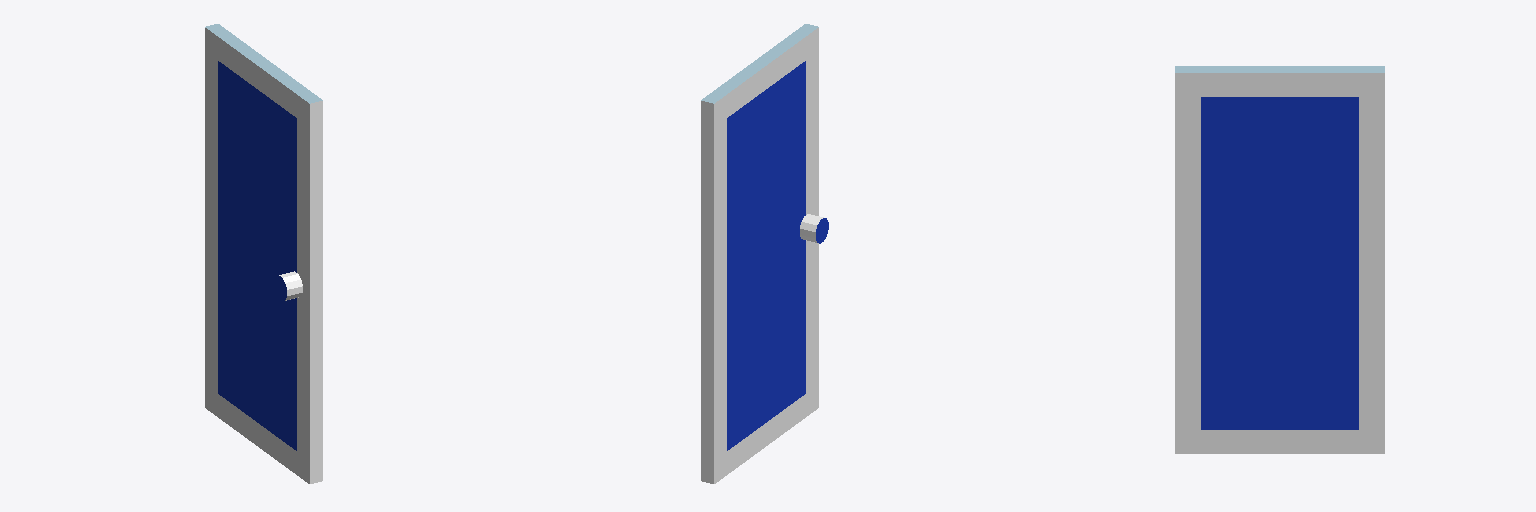
3 renders of one model, left to right at view 1: azimuth 30°, elevation 25°; view 2: azimuth 150°, elevation 25°; view 3: azimuth 270°, elevation 25°, orthographic.
Visible parts, largest first — view 1: cube, cylinder; view 2: cube, cylinder; view 3: cube.
Part boxes in pixels (bbox=[...]): cube: bbox=[205, 24, 322, 483]; cylinder: bbox=[274, 271, 302, 301]; cube: bbox=[701, 24, 818, 483]; cylinder: bbox=[800, 214, 828, 243]; cube: bbox=[1175, 66, 1384, 453].
Size of the model in its own units: 0.0406 by 0.5 by 0.25.
2 materials, 2 textured.